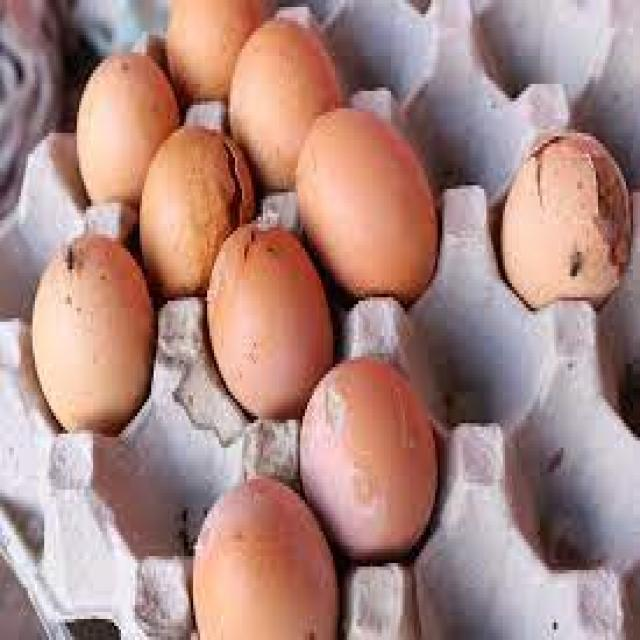biodegradable: (300, 355, 444, 563), (296, 110, 442, 294), (27, 232, 156, 423), (210, 222, 334, 410), (503, 131, 631, 308), (139, 120, 258, 300)
